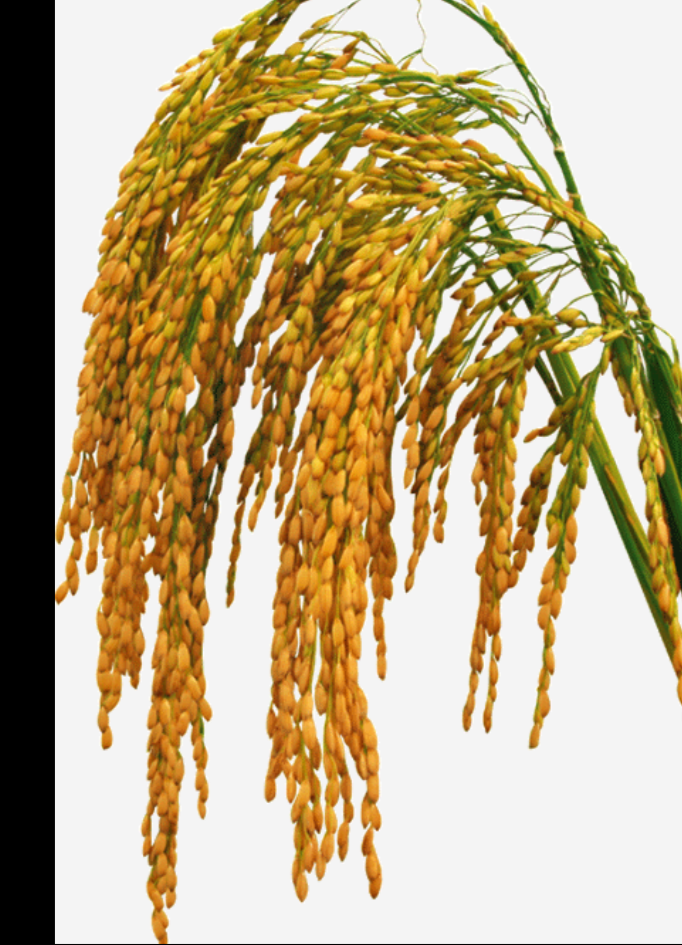rice: (59, 5, 548, 940)
